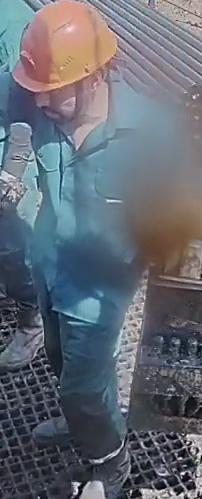gloves: (0, 165, 31, 225)
helmet: (10, 0, 117, 93)
vest: (22, 86, 164, 331)
